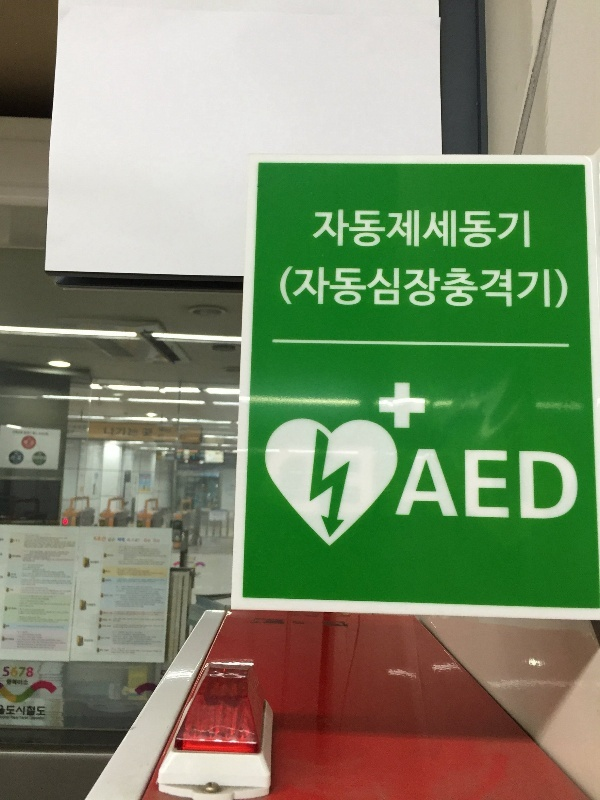text: (401, 444, 416, 527), (417, 444, 432, 527), (433, 444, 448, 527), (449, 444, 464, 527), (465, 444, 480, 527), (481, 444, 496, 527), (497, 444, 512, 527), (513, 444, 528, 527), (529, 444, 544, 527), (545, 444, 560, 527), (561, 444, 576, 527), (289, 260, 304, 317), (305, 260, 320, 317), (321, 260, 336, 317), (337, 260, 352, 317), (353, 260, 368, 317), (369, 260, 384, 317), (385, 260, 400, 317), (401, 260, 416, 317), (417, 260, 432, 317), (433, 260, 448, 317), (449, 260, 464, 317), (465, 260, 480, 317), (481, 260, 496, 317), (497, 260, 512, 317), (513, 260, 528, 317), (529, 260, 544, 317), (545, 260, 560, 317), (321, 205, 336, 255), (337, 205, 352, 255), (353, 205, 368, 255), (369, 205, 384, 255), (385, 205, 400, 255), (401, 205, 416, 255), (417, 205, 432, 255), (433, 205, 448, 255), (449, 205, 464, 255), (465, 205, 480, 255), (481, 205, 496, 255), (497, 205, 512, 255), (513, 205, 528, 255), (277, 260, 288, 317), (561, 260, 570, 317), (311, 205, 320, 255), (577, 444, 582, 527), (529, 205, 533, 255), (17, 666, 32, 679), (1, 704, 16, 717), (17, 704, 32, 717), (2, 666, 16, 679), (33, 704, 46, 717), (399, 444, 400, 527), (33, 666, 34, 679)
